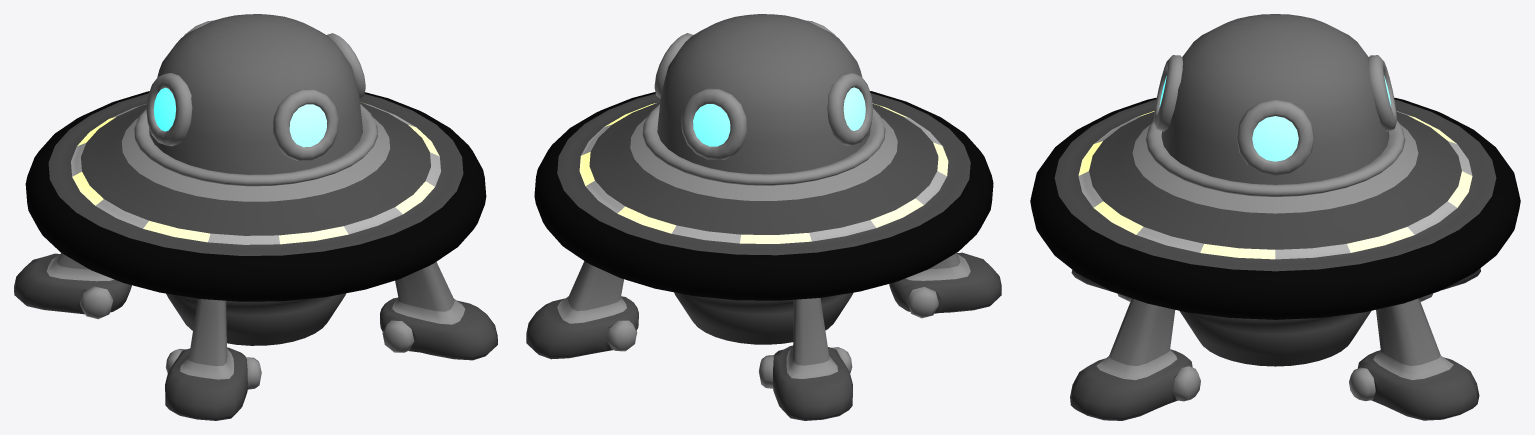
File: mesh_Spaceship_Trap_Bumper_A.fbx
3 views of the same model, side by side, from view 1: azimuth 30°, elevation 25°; view 2: azimuth 150°, elevation 25°; view 3: azimuth 270°, elevation 25° (orthographic). The views are drawn at different scales.
Visible parts, largest first — view 1: mesh_Spaceship_Trap_Bumper_A; view 2: mesh_Spaceship_Trap_Bumper_A; view 3: mesh_Spaceship_Trap_Bumper_A.
Boxes of the visible parts, x1=… form: mesh_Spaceship_Trap_Bumper_A: x1=14, y1=14, x2=497, y2=420; mesh_Spaceship_Trap_Bumper_A: x1=526, y1=14, x2=1001, y2=420; mesh_Spaceship_Trap_Bumper_A: x1=1030, y1=14, x2=1520, y2=420.
Size of the model in its own units: 2.86 by 2.02 by 2.86.
